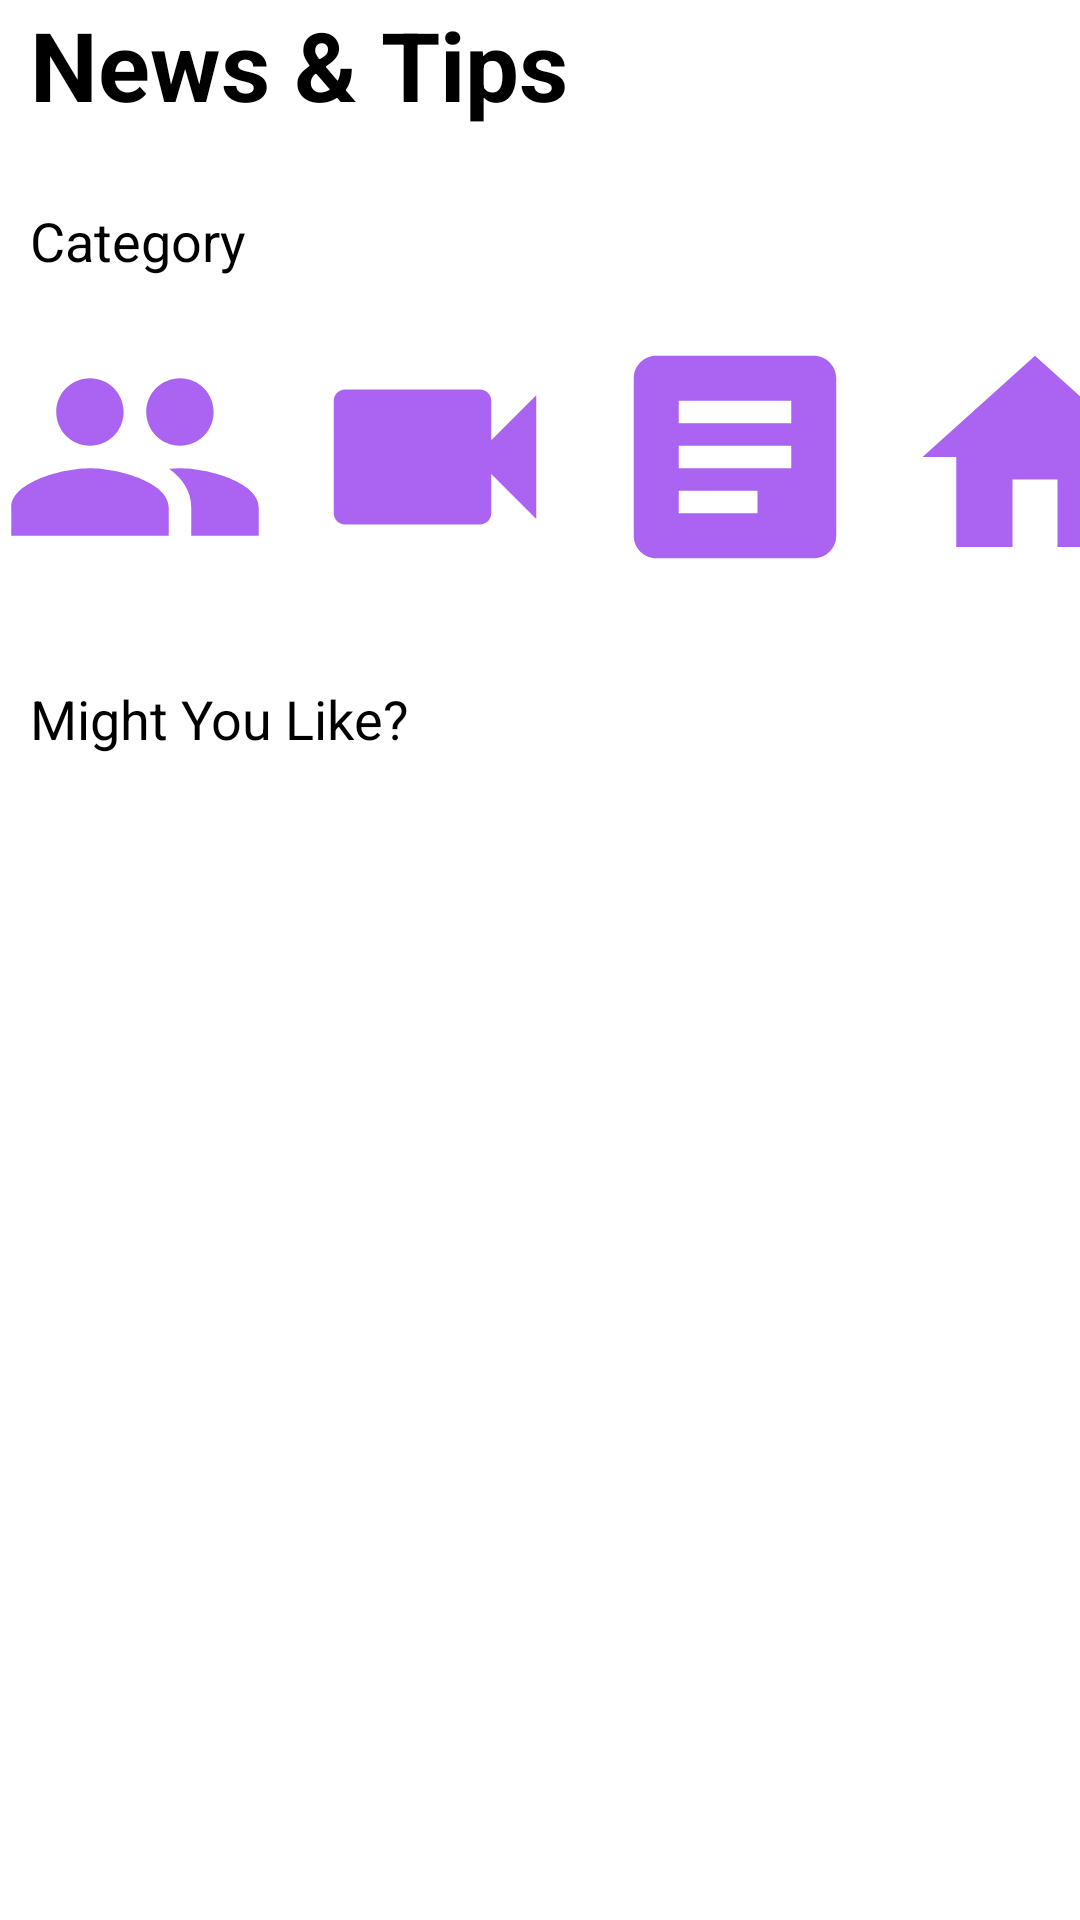

Screen size 1080x1920. Icon name, then its center in pixels as (x,y):
communityicon: (135,457)
newsicon: (735,457)
sessionicon: (435,457)
